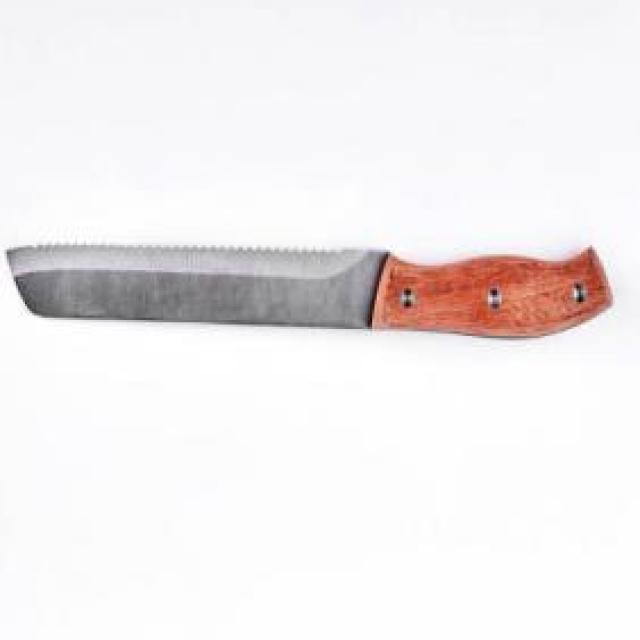knife: (4, 251, 608, 338)
